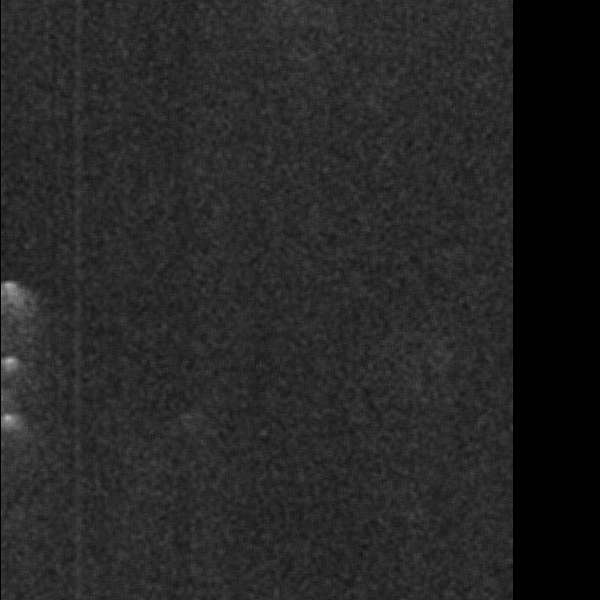spark: (96, 106, 166, 171), (30, 30, 69, 64), (216, 435, 241, 453)
